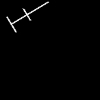double_crochet: (7, 2, 47, 31)
